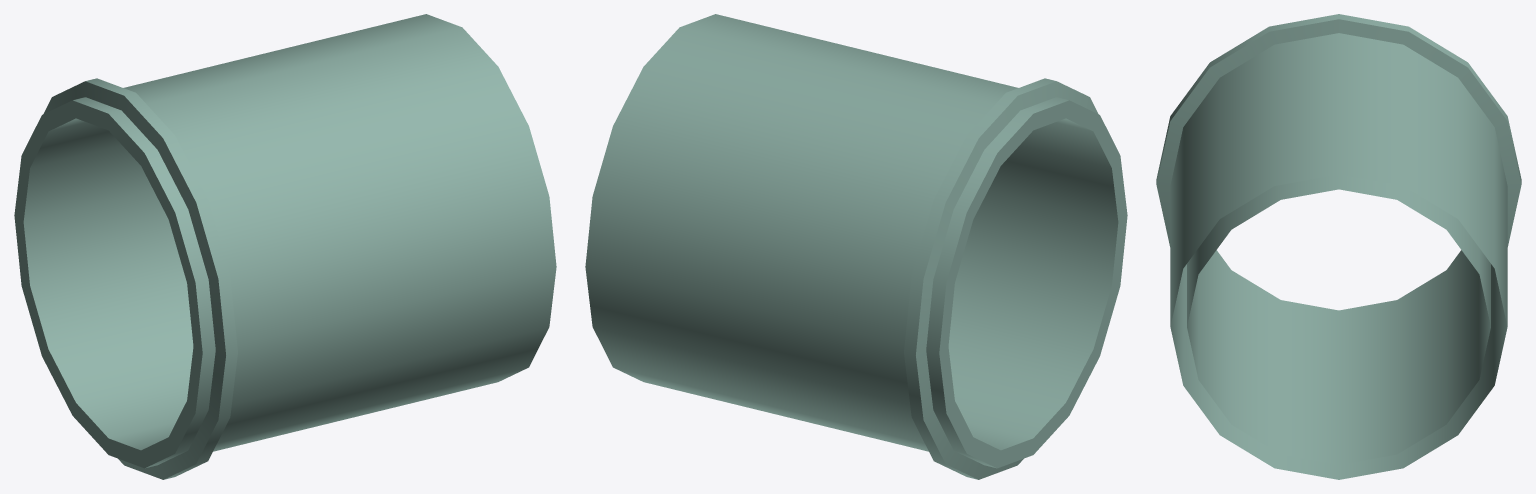
File: PipeLarge_ConnectorWall_Hollow.fbx
The picture shows the model from 3 angles, left to right: view 1: azimuth 30°, elevation 25°; view 2: azimuth 150°, elevation 25°; view 3: azimuth 270°, elevation 25°; orthographic projection. The views are drawn at different scales.
Parts seen in each view (by area): view 1: PipeLarge_ConnectorWall_Hollow.001; view 2: PipeLarge_ConnectorWall_Hollow.001; view 3: PipeLarge_ConnectorWall_Hollow.001.
Part boxes in pixels (<box>): PipeLarge_ConnectorWall_Hollow.001: <box>14,14,556,479</box>; PipeLarge_ConnectorWall_Hollow.001: <box>585,14,1127,479</box>; PipeLarge_ConnectorWall_Hollow.001: <box>1156,14,1521,479</box>.
Bounding box in the file's own units: 0.2337 × 0.2334 × 0.2334.
